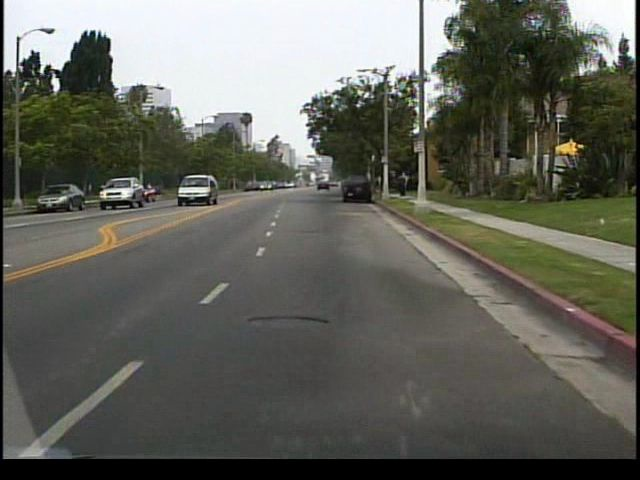person: (400, 169, 413, 199), (396, 175, 407, 198)
